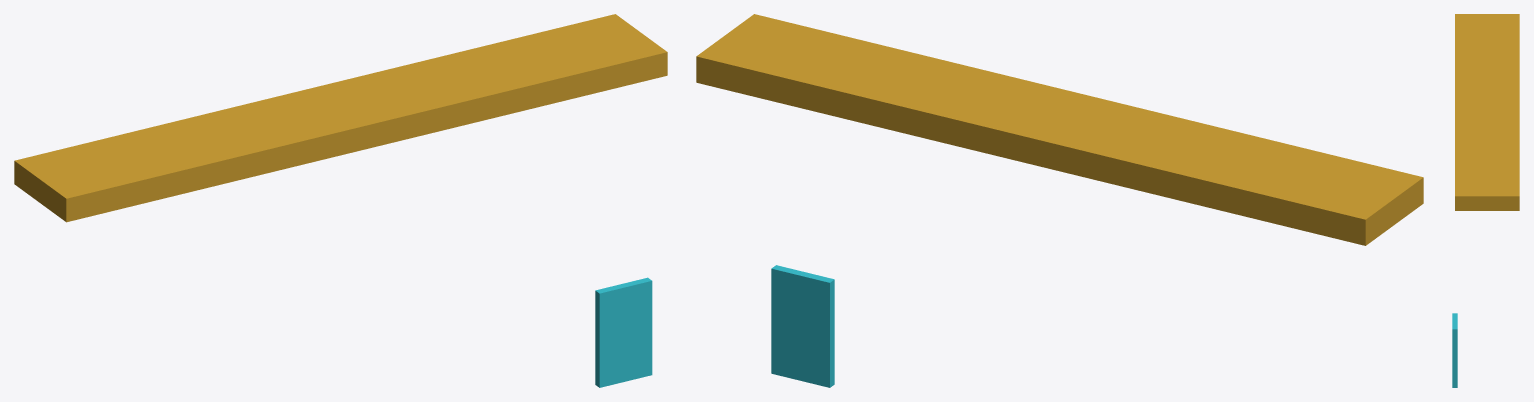
Rendered from door.keycard_airlock.glb.
3 renders of one model, left to right at view 1: azimuth 30°, elevation 25°; view 2: azimuth 150°, elevation 25°; view 3: azimuth 270°, elevation 25°, orthographic. The views are drawn at different scales.
Parts seen in each view (by area): view 1: amber_header, keycard_panel; view 2: amber_header, keycard_panel; view 3: amber_header, keycard_panel.
Part boxes in pixels (x1,y1,x2,y2): amber_header: (14, 14, 667, 222); keycard_panel: (595, 277, 652, 387); amber_header: (696, 14, 1423, 245); keycard_panel: (771, 265, 834, 387); amber_header: (1455, 14, 1519, 210); keycard_panel: (1452, 313, 1457, 387).
Size of what is drawn, in the model's own units: 4.8 by 2.42 by 0.75.
